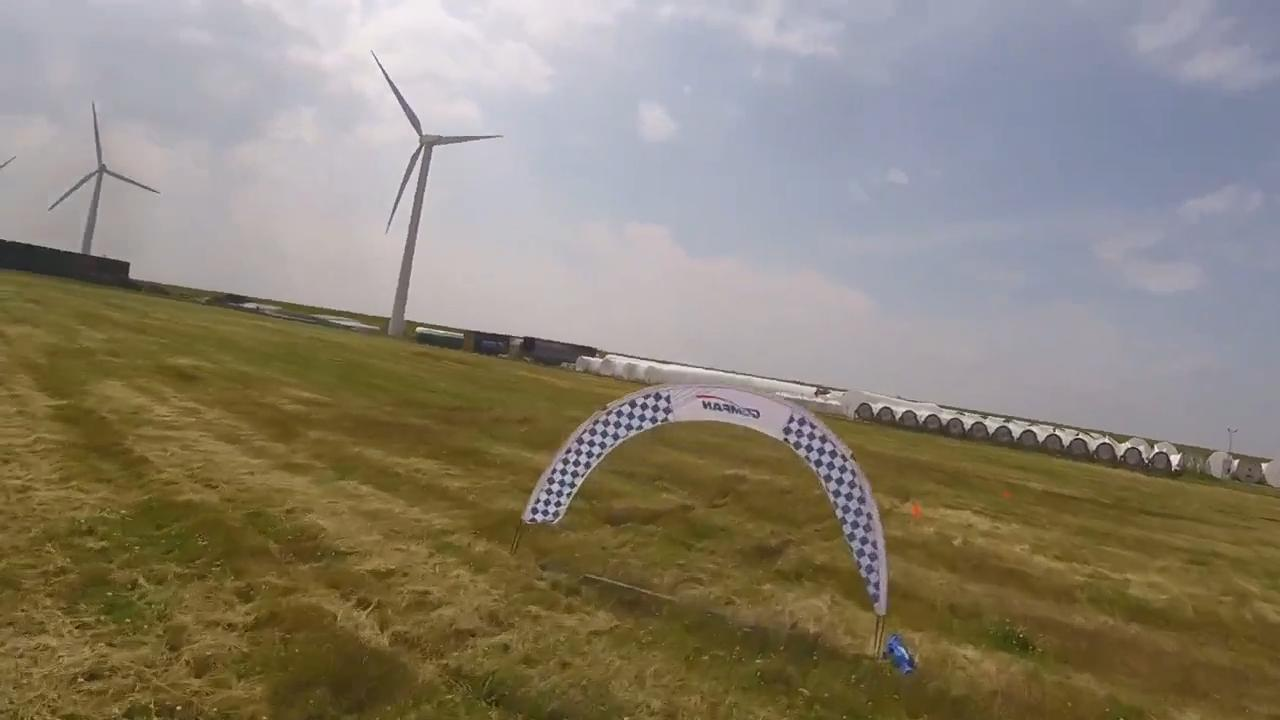gate: (525, 387, 886, 625)
